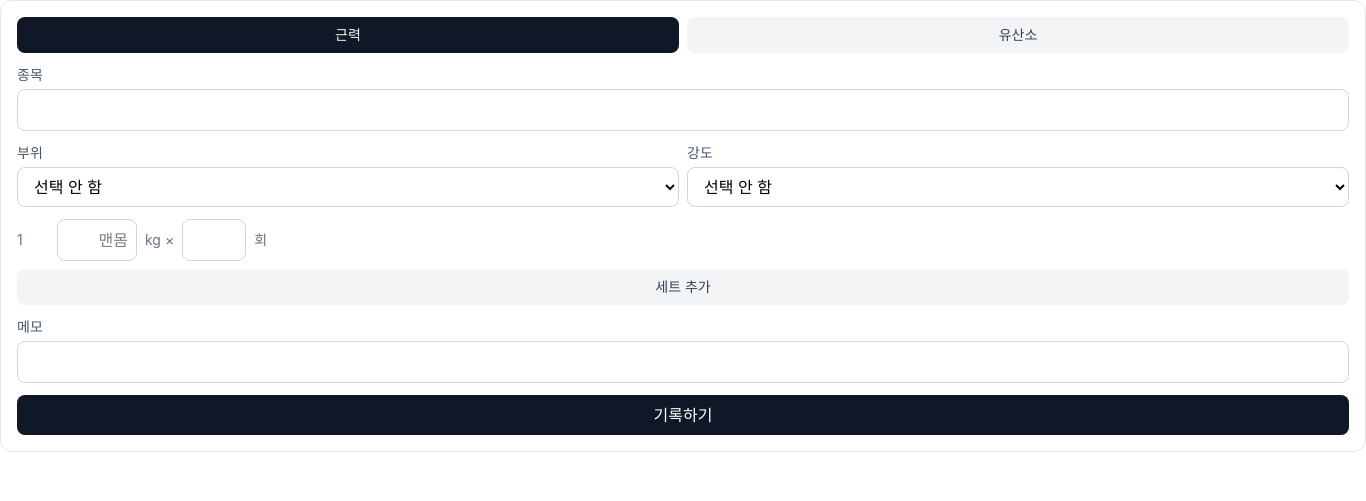
Test: 운동 폼 › 무게가 1000을 넘으면 저장하지 않고 알린다
The image size is (1366, 501).
In the field labelled "종목": (683, 110) [17,89,1349,131], type "데드리프트"
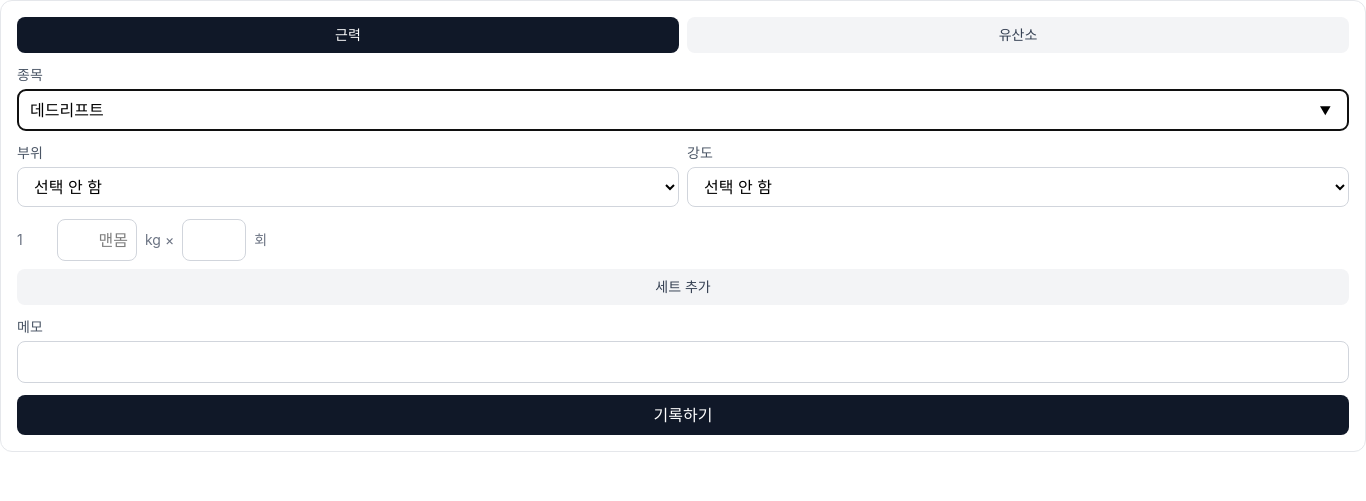
In the field named "1세트 무게(kg)": (97, 240) [57,219,137,261], type "1500"
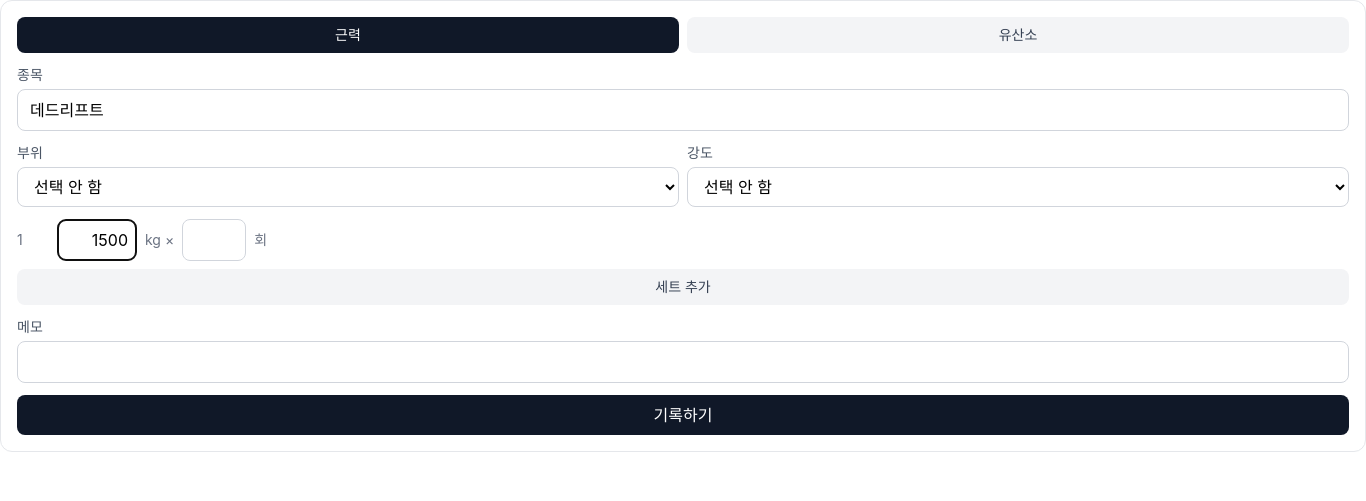
In the field named "1세트 횟수": (214, 240) [182,219,246,261], type "5"
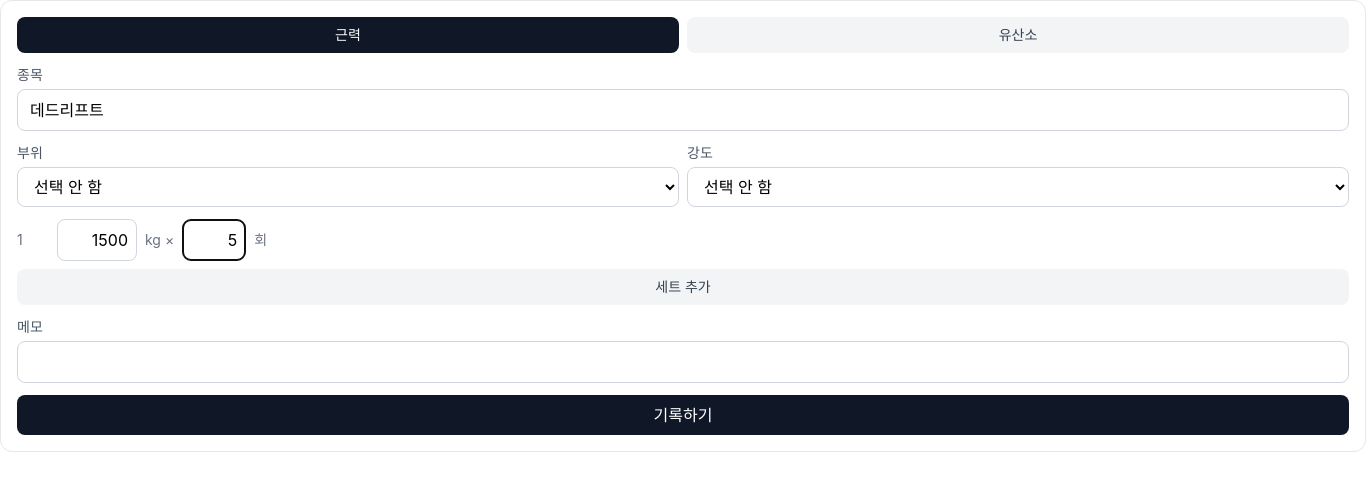
Click the button "기록하기": click(683, 415) [17,395,1349,435]
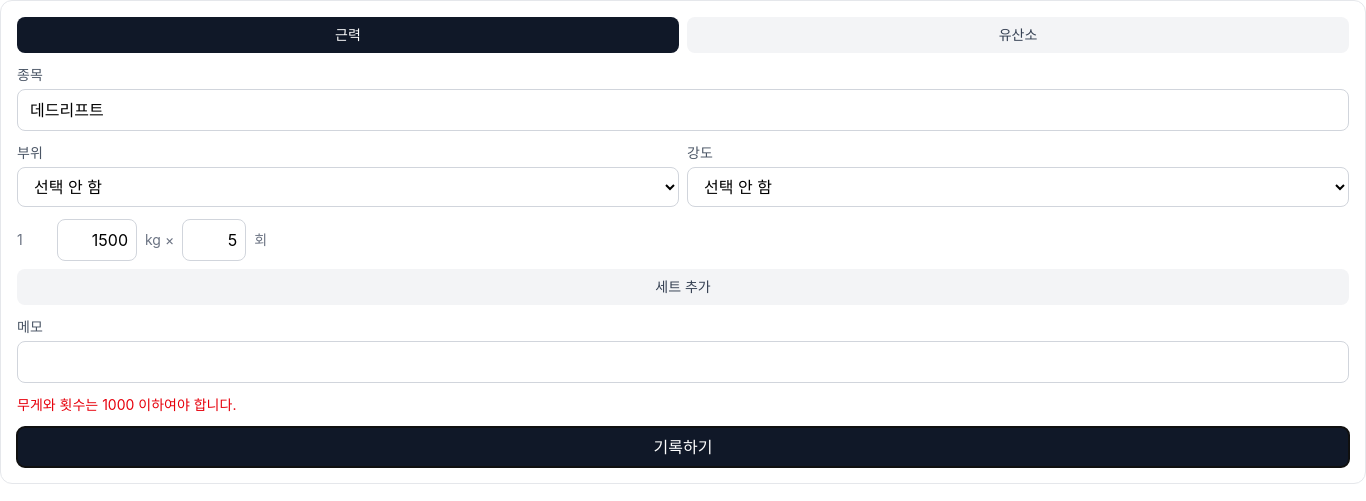
Now the message shows "1000", box [17,396,236,413]
